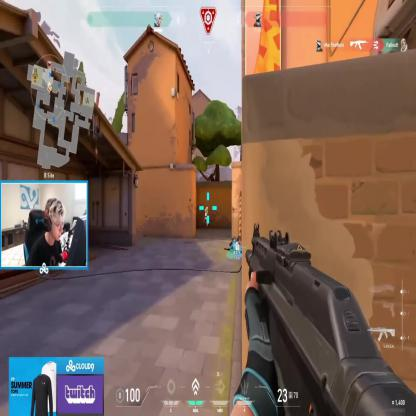enemy: (203, 204, 208, 229)
enemy_head: (206, 206, 208, 212)
